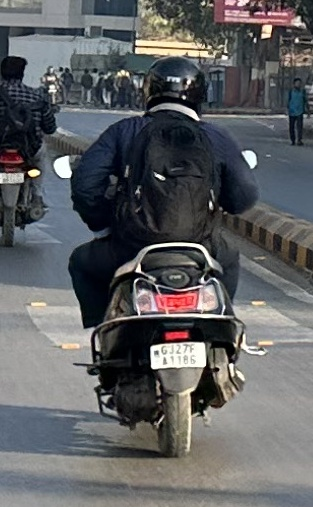BikeWithRider: (49, 49, 262, 461), (0, 53, 49, 250), (37, 62, 60, 108)
Helmet: (138, 52, 212, 125)
NoHelmet: (0, 54, 30, 88)
